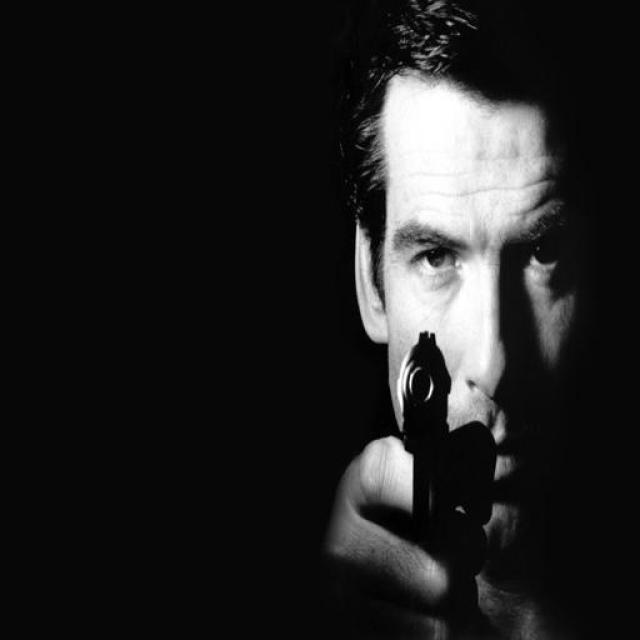pistol: (386, 324, 461, 525)
